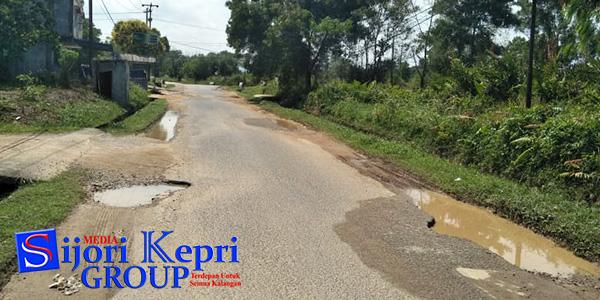Pothole: (348, 164, 600, 295), (102, 91, 208, 158), (59, 171, 220, 206), (249, 98, 323, 144)
